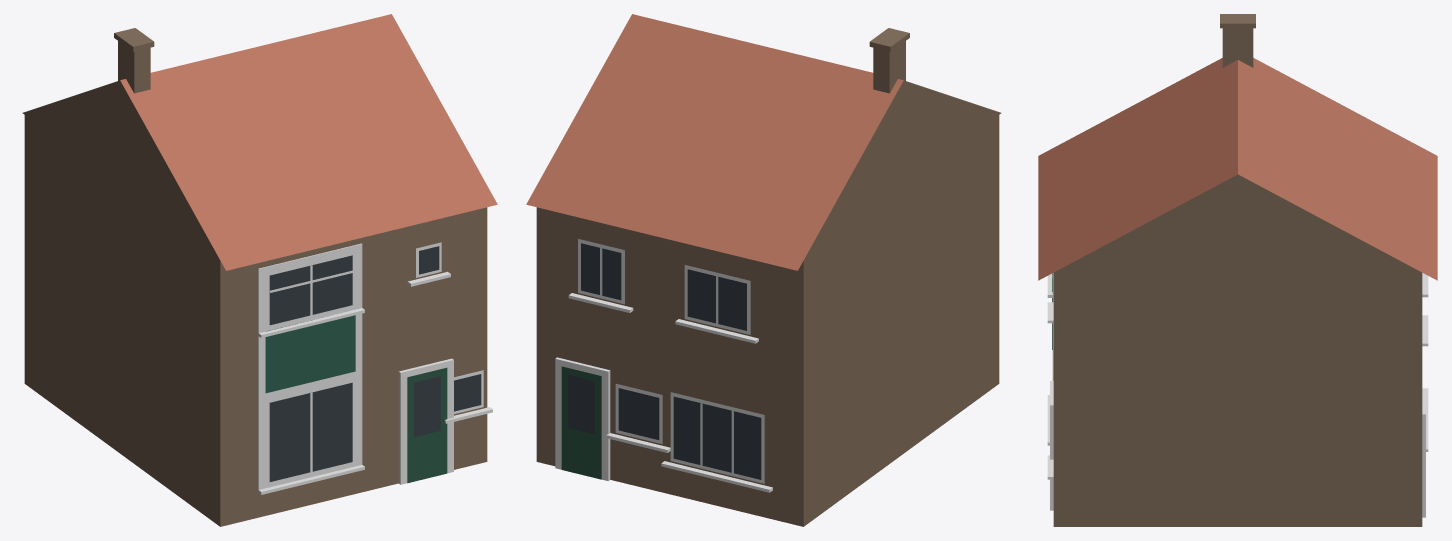
Rendered from ws-wz-bay__green__2__gable__long__solid.glb.
3 renders of one model, left to right at view 1: azimuth 30°, elevation 25°; view 2: azimuth 150°, elevation 25°; view 3: azimuth 270°, elevation 25°, orthographic. The views are drawn at different scales.
Parts seen in each view (by area): view 1: ws-wz-bay__green__2__gable__long__solid; view 2: ws-wz-bay__green__2__gable__long__solid; view 3: ws-wz-bay__green__2__gable__long__solid.
Boxes of the visible parts, bbox=[...] form: ws-wz-bay__green__2__gable__long__solid: bbox=[22, 14, 497, 526]; ws-wz-bay__green__2__gable__long__solid: bbox=[526, 14, 1001, 526]; ws-wz-bay__green__2__gable__long__solid: bbox=[1038, 14, 1437, 526].
Bounding box in the file's own units: 5.76 × 8.42 × 7.79.
